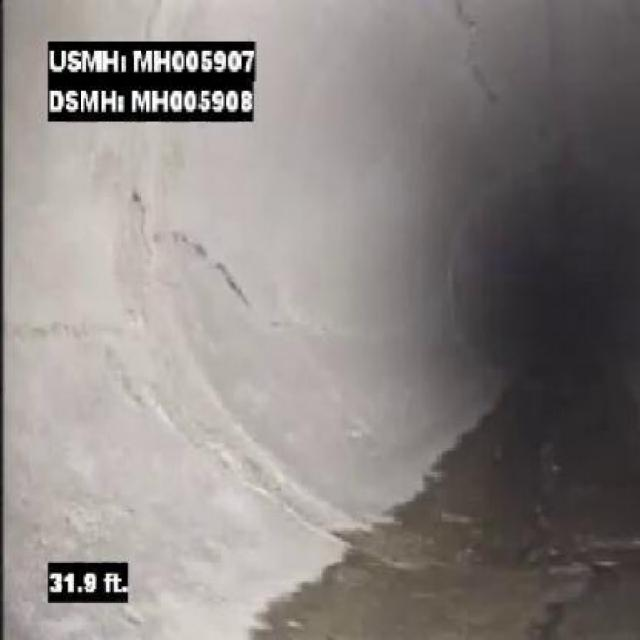Crack: (526, 409, 623, 617), (183, 229, 268, 331), (431, 5, 503, 101), (14, 304, 134, 350)
